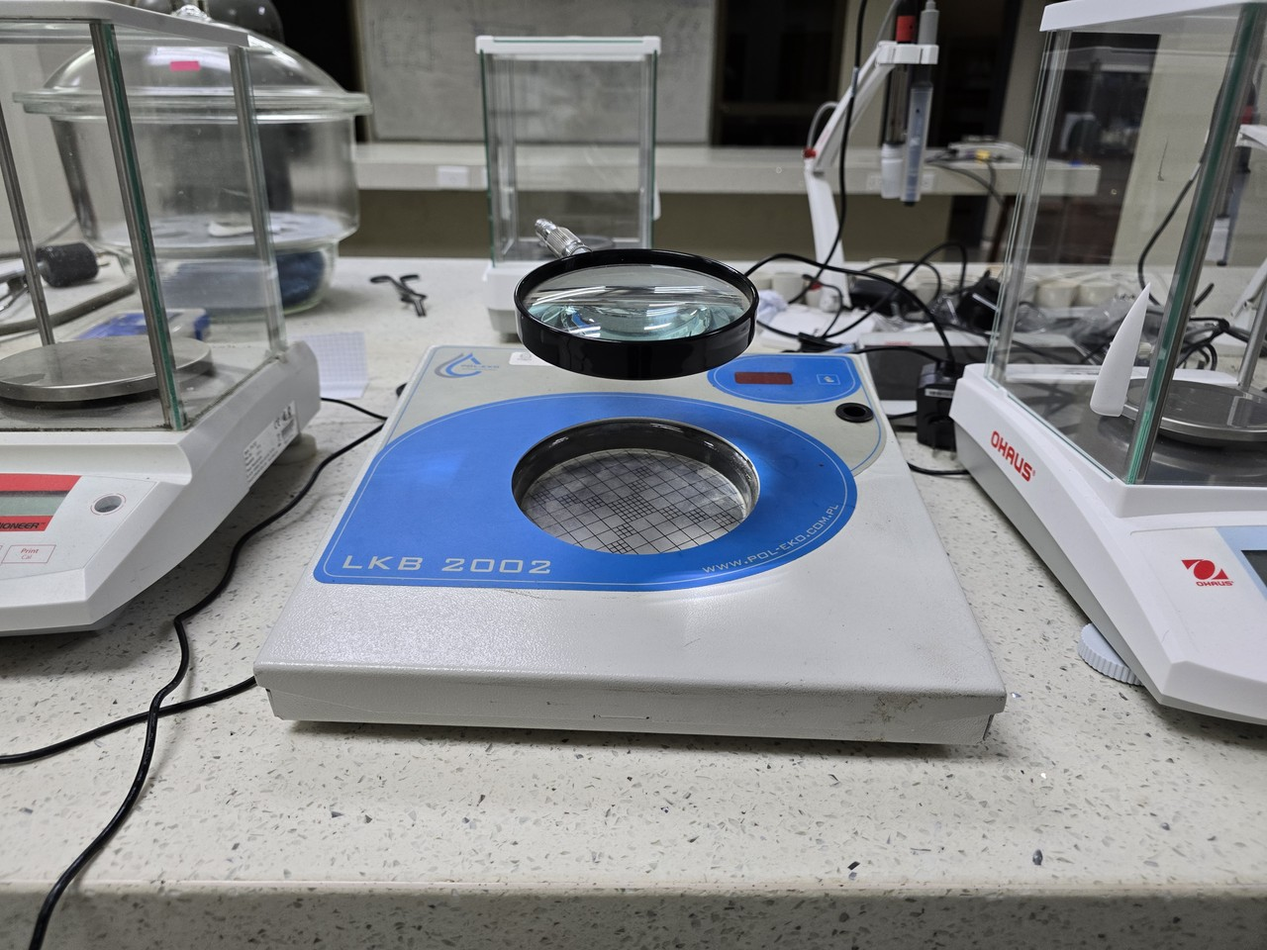contador_de_colonias: (245, 250, 1057, 822)
